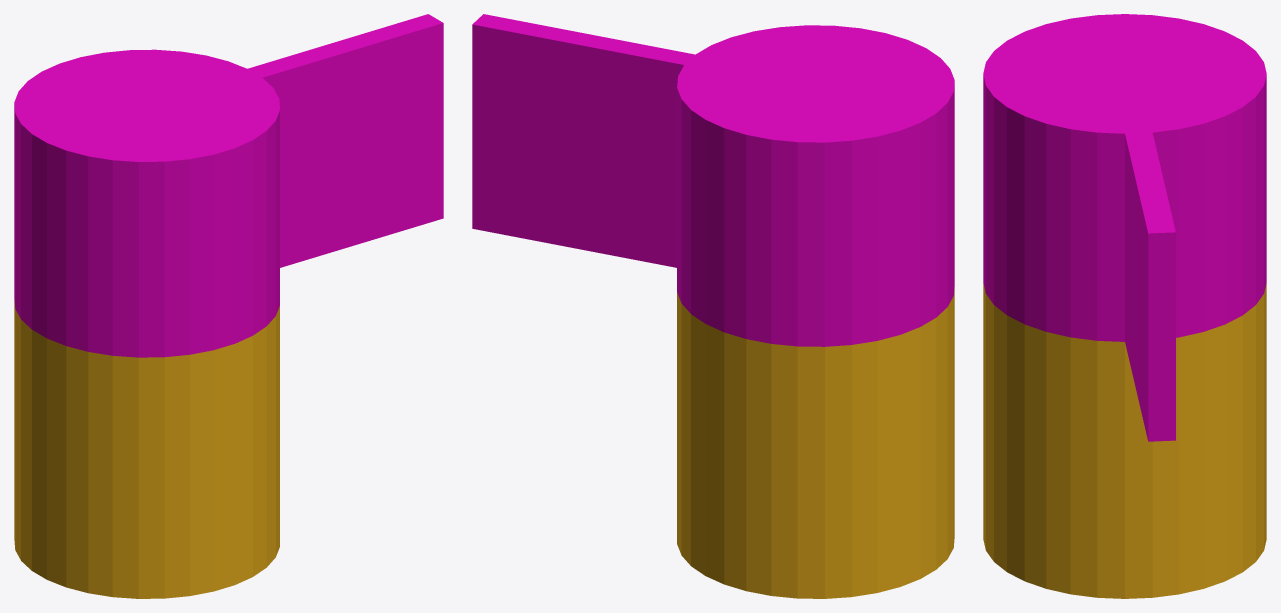
Rendered from product_placeholder_1.glb.
3 views of the same model, side by side, from view 1: azimuth 30°, elevation 25°; view 2: azimuth 150°, elevation 25°; view 3: azimuth 270°, elevation 25° (orthographic). The views are drawn at different scales.
Parts seen in each view (by area): view 1: Cylinder; view 2: Cylinder; view 3: Cylinder.
Part boxes in pixels (x1,y1,x2,y2): Cylinder: (14, 14, 443, 598); Cylinder: (472, 14, 954, 598); Cylinder: (983, 14, 1266, 598).
Size of the model in its own units: 3.66 by 3.62 by 2.
